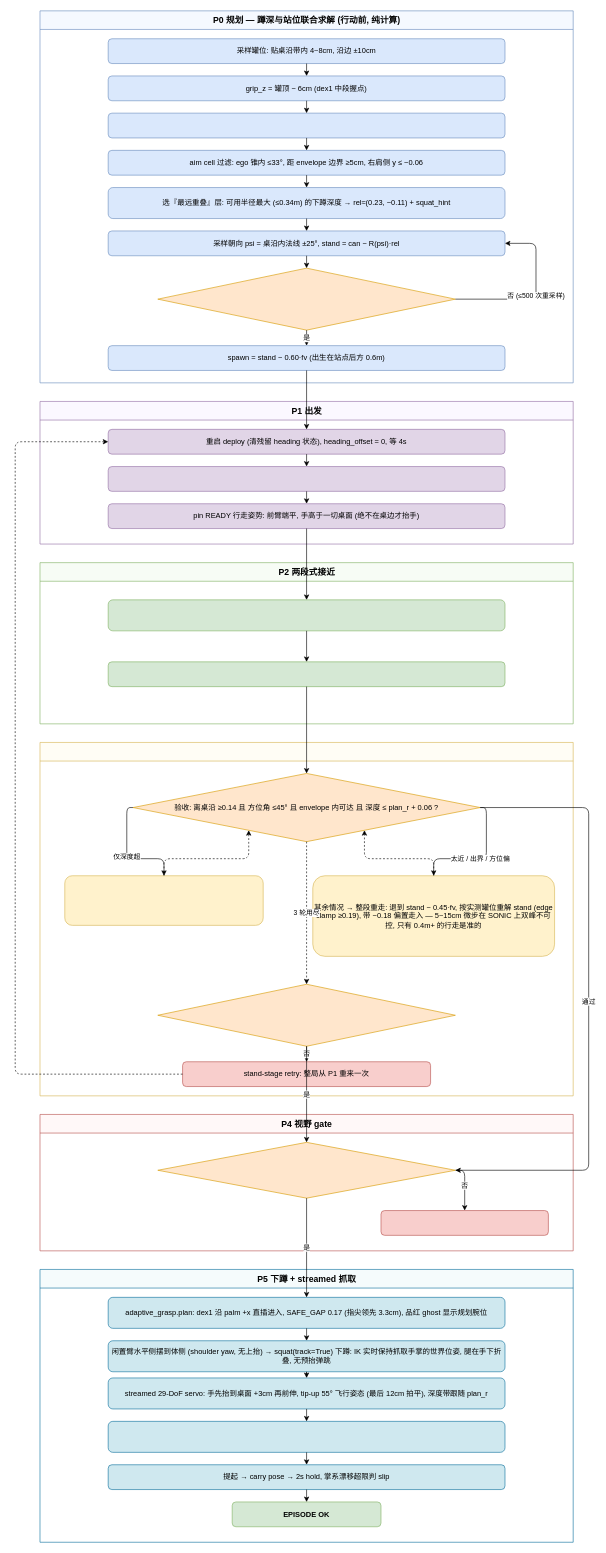
Some shapes in this 606 by 1553 pixel diagram are drawn without their labels. Each missing label, with the box of its shape:
1s facing 稳定: (108, 661, 505, 687)
3 轮后硬地板: edge ≥ 0.14 且 envelope 可达 ?: (157, 984, 455, 1046)
edge 裕量够 (优先 ≥0.20, 兜底 ≥0.17) 且 spawn→stand 全线离桌沿 ≥0.17 ?: (157, 268, 455, 330)
ego 相机看得到罐: |fx| ≤ 0.8, |fy| ≤ 0.9 ?: (157, 1142, 455, 1198)
EPISODE FAILED (view): (380, 1210, 548, 1235)
P3 站位验收环 (单一目标点, ≤3 轮): (39, 742, 573, 1096)
plan_core_stand: 扫每个下蹲深度 dz = 0~19.5cm 的深绿芯水平切片: (108, 113, 505, 138)
teleport 机器人+罐 → start_control → 4s IDLE 稳定 (facing = fv): (108, 466, 505, 491)
仅过深 → 一步前进 depth trim (唯一可靠的微步): (64, 875, 263, 925)
全程 READY 端平行走: walk_to(stand − 0.12·fv), 故意瞄短 12cm 让停步前爬 (6~13cm) 带进站点: (108, 599, 505, 631)
罐进爪内 (entry 轴距 <6cm) → 立即闭合: 开口 9.48cm → 夹持 (gear 250, 每指 ~8N): (108, 1421, 505, 1452)
